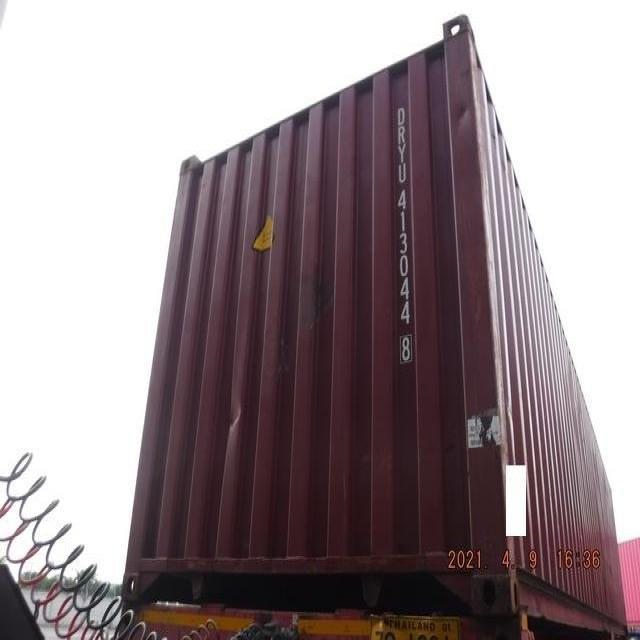Minor-Dent: (213, 400, 262, 436)
